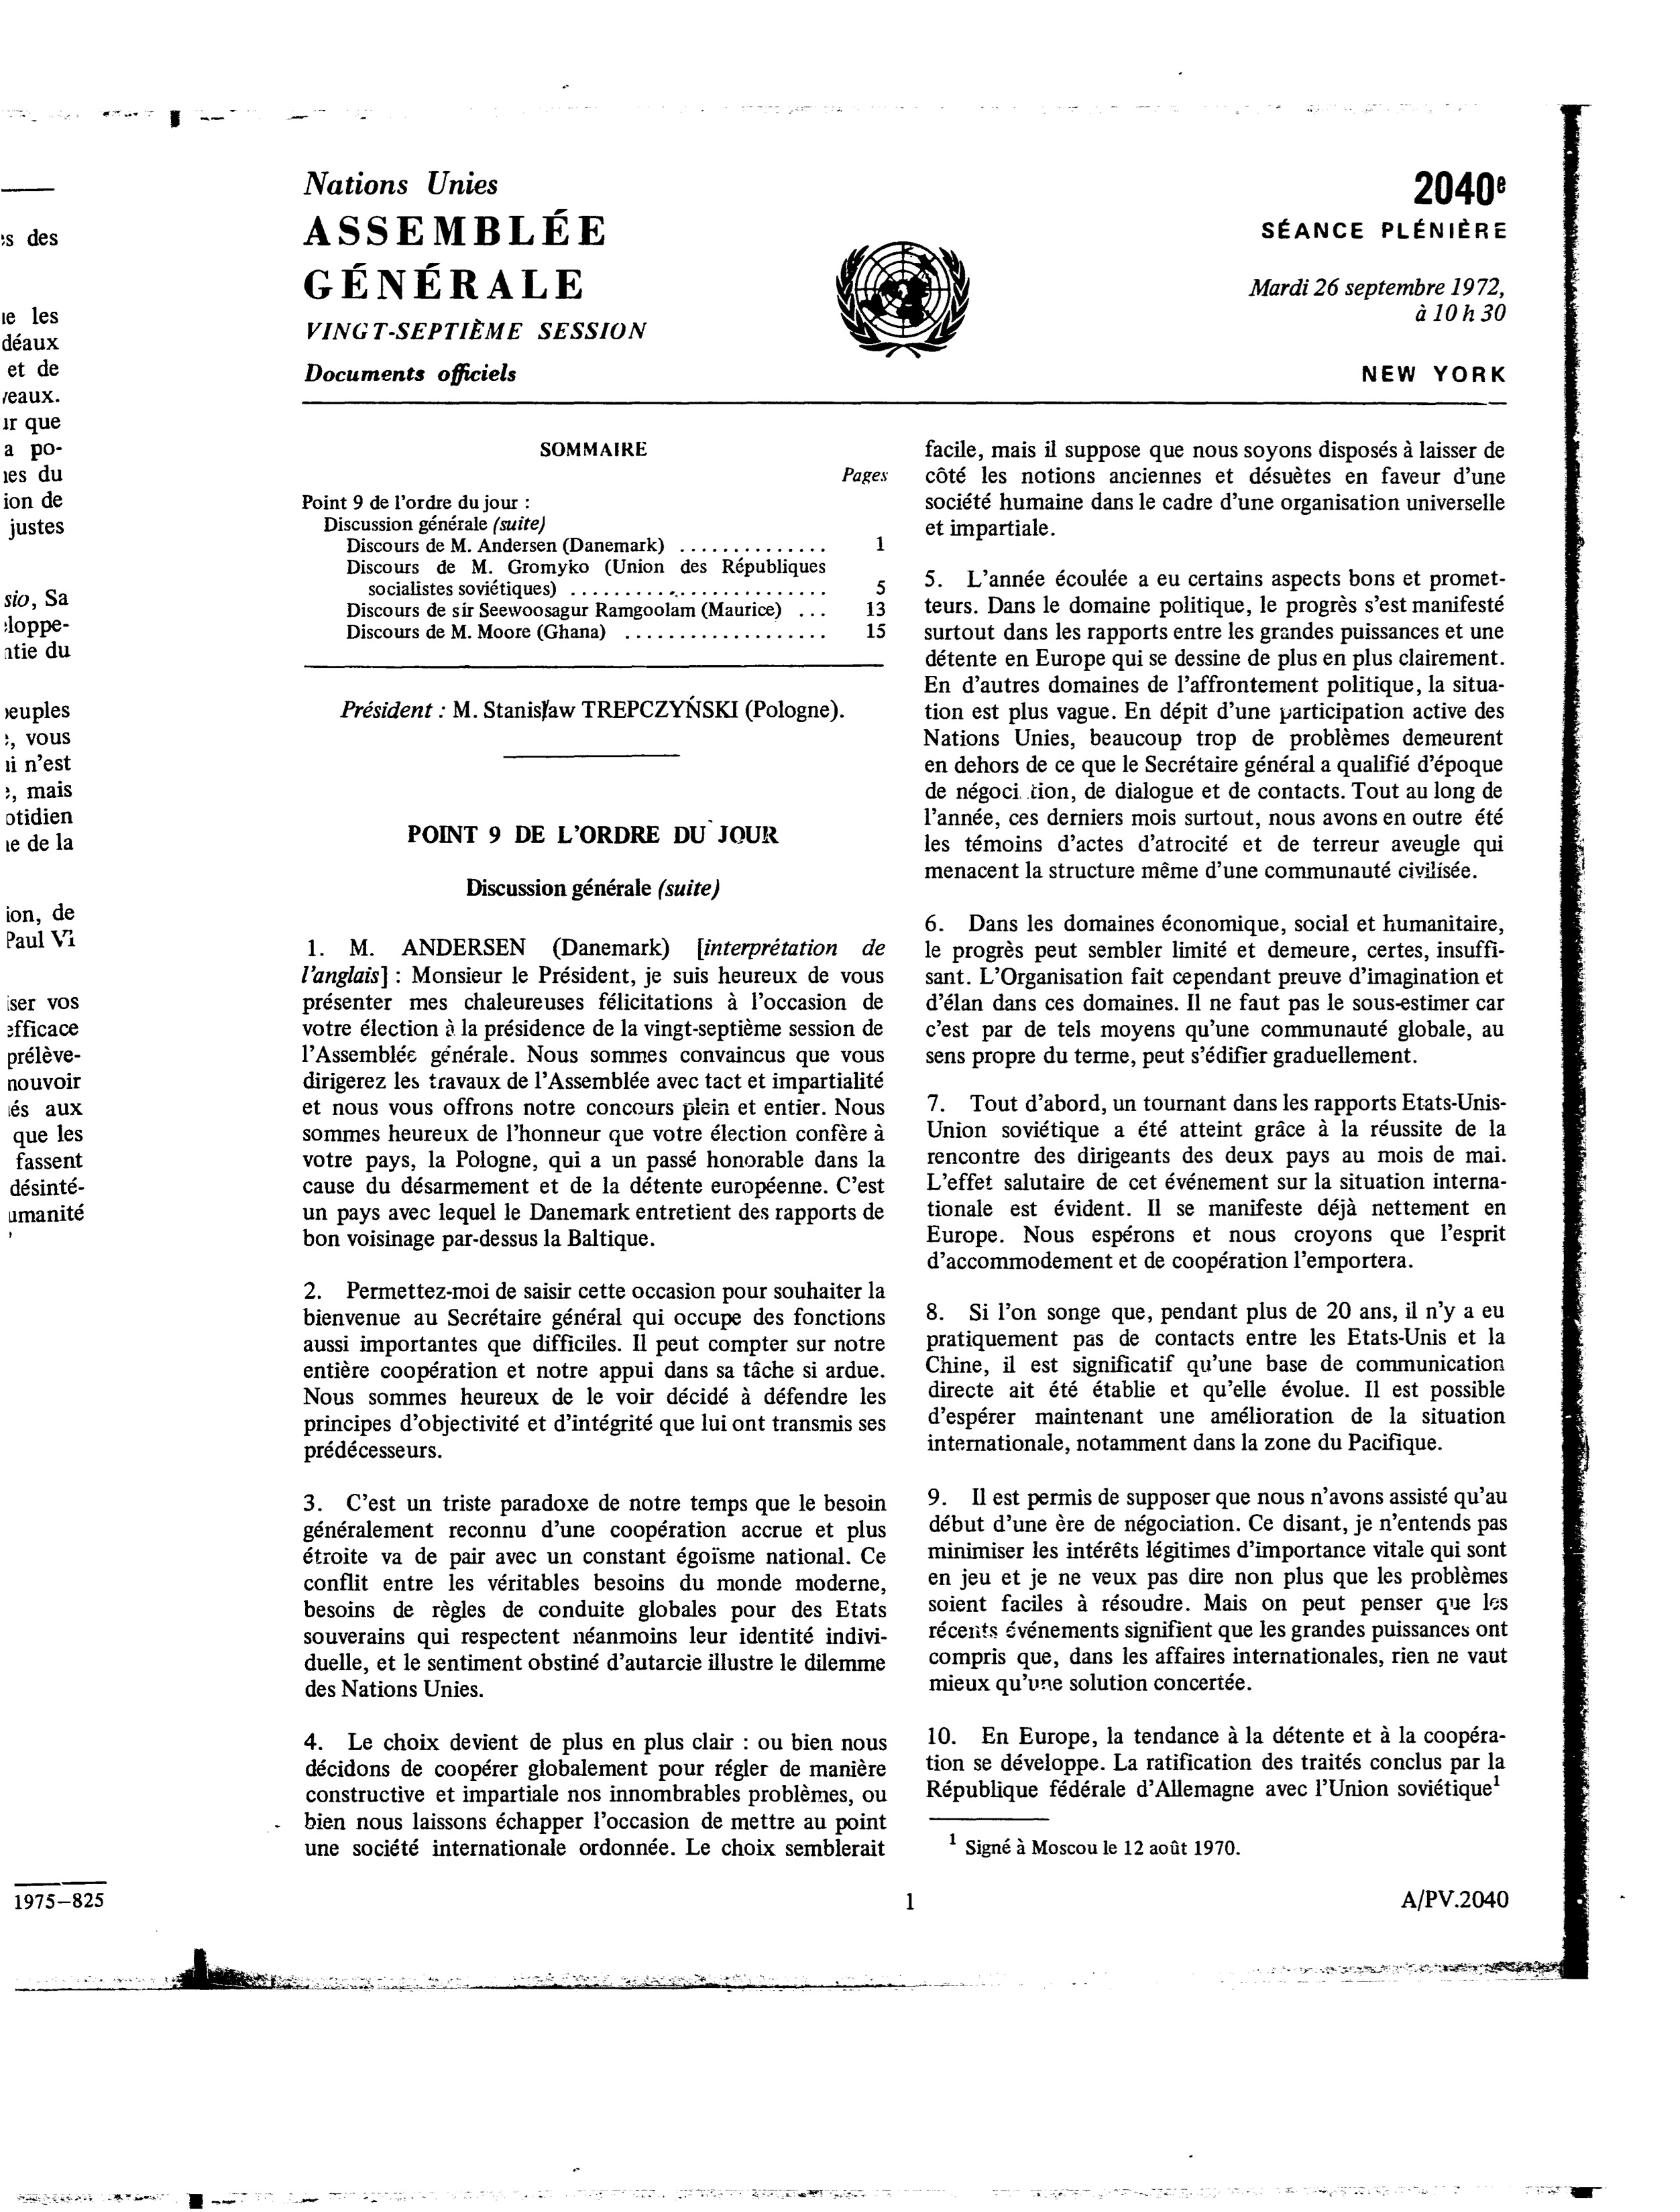GraphicZone: (828, 236, 978, 363)
MainZone-Continued: (917, 432, 1516, 544)
MainZone-Date: (1236, 268, 1512, 325)
MainZone-Head: (282, 162, 661, 400), (1248, 159, 1523, 247), (391, 818, 791, 853), (458, 870, 729, 907), (1351, 354, 1512, 396), (533, 433, 655, 466)
MainZone-ListItem: (294, 929, 892, 1256), (917, 563, 1514, 887), (296, 1485, 895, 1706), (919, 1480, 1517, 1698), (297, 1274, 894, 1466), (921, 1085, 1514, 1276), (919, 906, 1511, 1071), (920, 1294, 1515, 1458), (297, 1725, 895, 1868), (921, 1718, 1515, 1807)
MainZone-Other: (326, 693, 858, 730)
MarginTextZone-Notes: (938, 1828, 1251, 1868)
NumberingZone: (1395, 1883, 1516, 1916), (901, 1891, 924, 1918)
TitlePageZone-Index: (286, 460, 896, 648)
